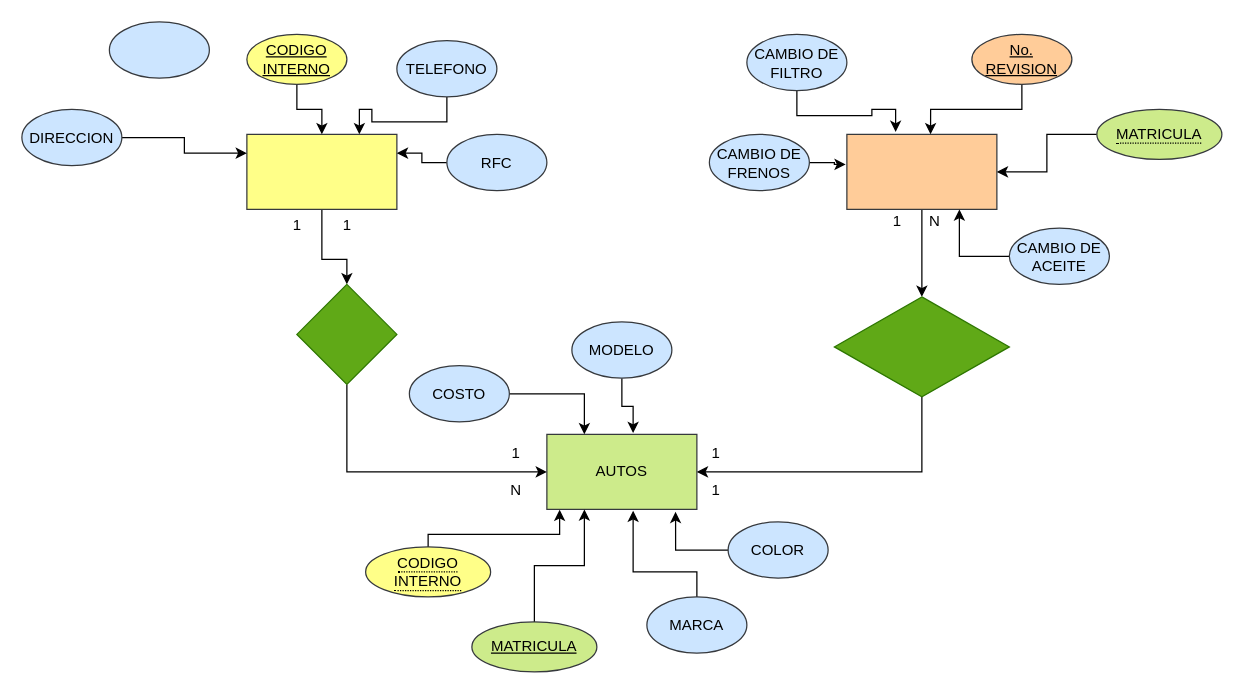
The diagram is 1244 pixels wide and 694 high, and some of its shapes have lost their labels. The shapes that lost their labels are listed below. From the top down, each one's centre as x and y in pixels, then its label:
At point (158, 49): "NOMBRE".
At point (321, 171): "CLIENTE".
At point (921, 171): "REVISION".
At point (346, 333): "COMPRA".
At point (921, 346): "REALIZA".
